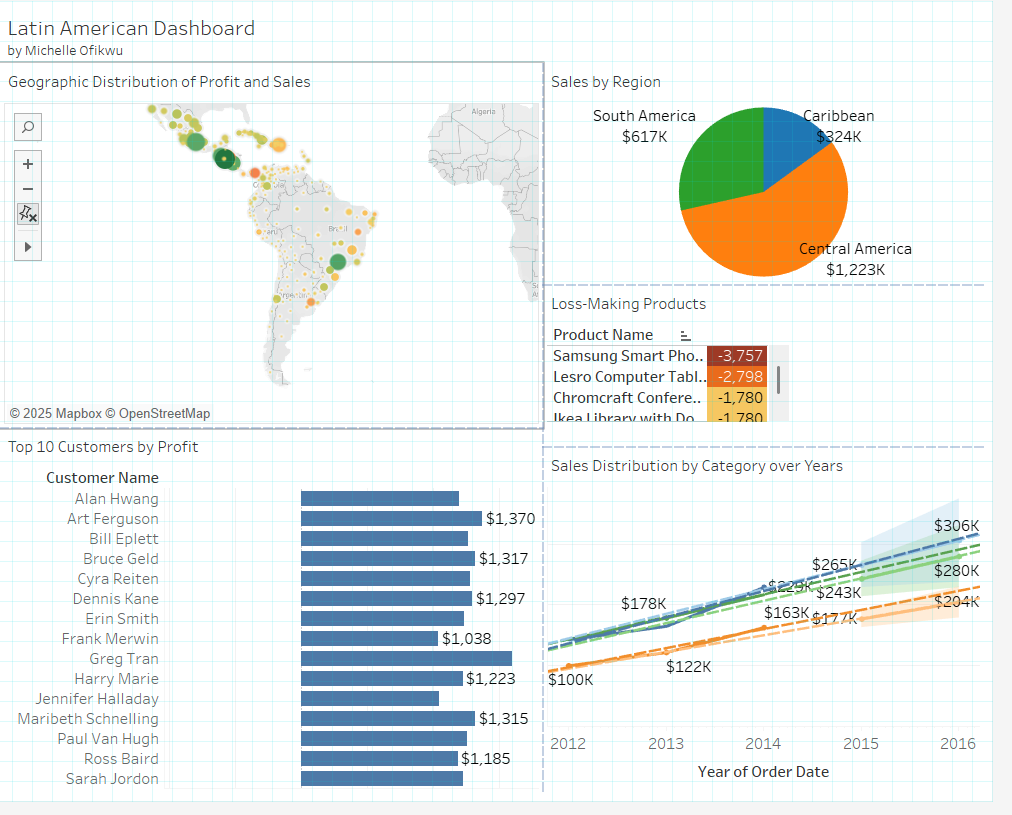

What the dashboard file says about the page in this screenshot:
{"tool":"tableau","page":{"name":"Latin American Dashboard","canvas":[1000,800],"ordinal":0},"visuals":[{"type":"title","box":[8,8,984,54]},{"type":"worksheet","title":"Geographic Distribution","mark":"Automatic","box":[8,62,543,365]},{"type":"worksheet","title":"Sales by Region","mark":"Pie","box":[551,62,441,221.6]},{"type":"worksheet","title":"Loss Making Products","mark":"Square","rows":["Product Name"],"box":[551,283.6,441,162]},{"type":"worksheet","title":"Top Customers","mark":"Automatic","rows":["Customer Name"],"cols":["Profit"],"box":[8,427,543,365]},{"type":"worksheet","title":"Sales Distribution by Segments over Years","mark":"Automatic","rows":["Sales"],"cols":["OrderDate"],"box":[551,445.6,441,346.4]}]}

Visuals, with their boxes in screenshot pixels (x1, y1, x2, y2), scaled from the page's 1000x800 canvas onto the 1012x815 screenshot:
title: 8/8/1004/63
"Geographic Distribution" worksheet: 8/63/558/435
"Sales by Region" worksheet (Pie marks): 558/63/1004/289
"Loss Making Products" worksheet (Square marks): 558/289/1004/454
"Top Customers" worksheet: 8/435/558/807
"Sales Distribution by Segments over Years" worksheet: 558/454/1004/807
